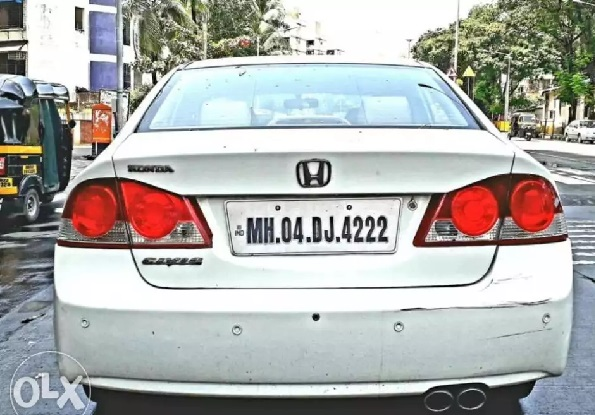licenseplate: (221, 197, 401, 253)
